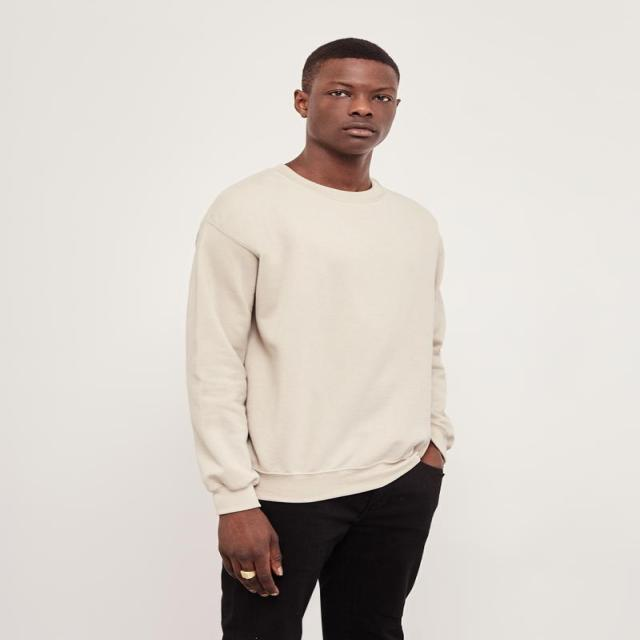mobile_phonerotation: (184, 37, 455, 638)
